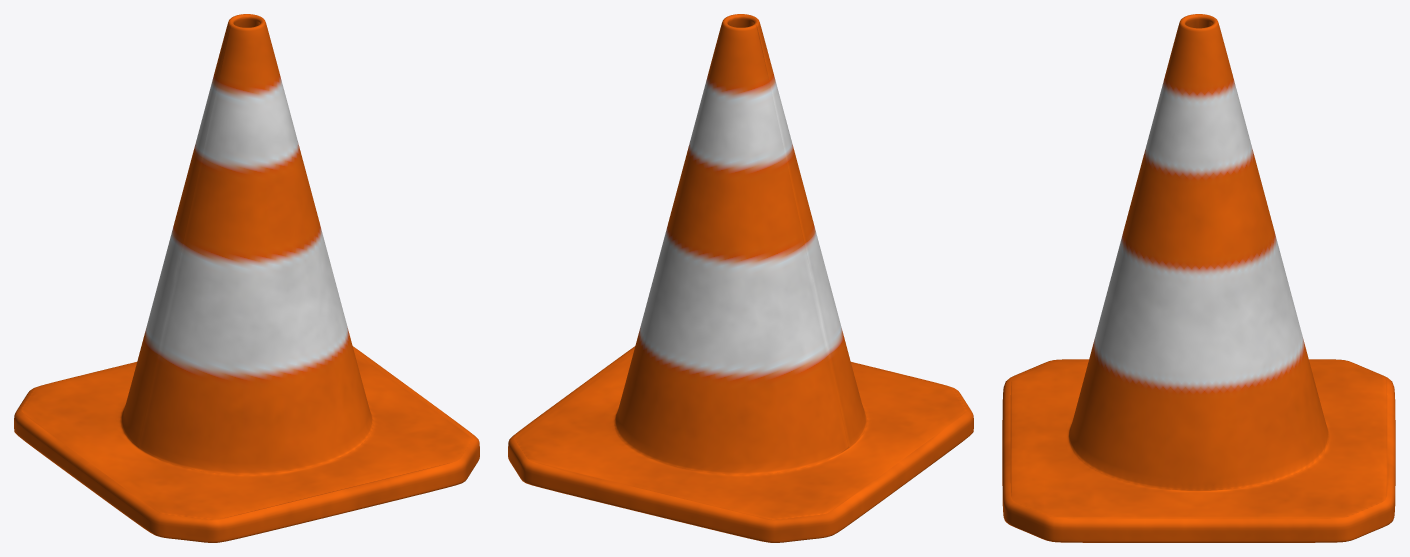
3 renders of one model, left to right at view 1: azimuth 30°, elevation 25°; view 2: azimuth 150°, elevation 25°; view 3: azimuth 270°, elevation 25°, orthographic. The views are drawn at different scales.
Parts seen in each view (by area): view 1: Cone Normal; view 2: Cone Normal; view 3: Cone Normal.
Part boxes in pixels (x1=…): Cone Normal: x1=14, y1=14, x2=479, y2=542; Cone Normal: x1=508, y1=14, x2=973, y2=542; Cone Normal: x1=1002, y1=14, x2=1395, y2=542.
Bounding box in the file's own units: 0.42 × 0.5188 × 0.42.
Materials: 1 (1 with a texture image).
